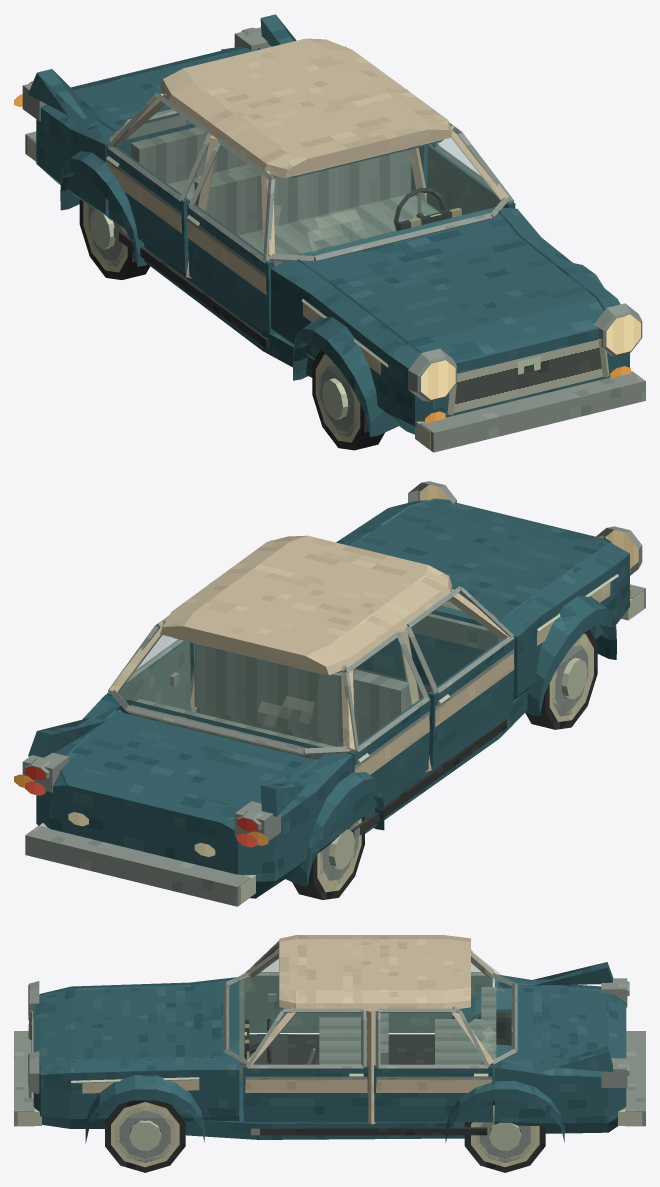
File: northcairn-1956.glb
The picture shows the model from 3 angles, top to bottom: view 1: azimuth 30°, elevation 25°; view 2: azimuth 150°, elevation 25°; view 3: azimuth 270°, elevation 25°; orthographic projection. The views are drawn at different scales.
Parts seen in each view (by area): view 1: body, Hood opening panel, Hinged side glass.003, Hinged side glass.002, Trunk opening panel, Shaped hinged outer door.002, Shaped hinged outer door.003, Padded inside door panel, Chrome-capped two-tone insert.004, Chrome-capped two-tone insert.006, Tyre tread and scalloped shoulders.001, Wheel side annulus.003 (+10 smaller); view 2: body, Trunk opening panel, Hood opening panel, Hinged side glass.003, Hinged side glass.002, Shaped hinged outer door.002, Shaped hinged outer door.003, Padded inside door panel.001, Chrome-capped two-tone insert.004, Chrome-capped two-tone insert.006, Tyre tread and scalloped shoulders.001, Wheel side annulus.002 (+6 smaller); view 3: body, Hood opening panel, Trunk opening panel, Shaped hinged outer door, Hinged side glass.001, Hinged side glass, Shaped hinged outer door.001, Padded inside door panel.002, Chrome-capped two-tone insert, Wheel side annulus.001, Wheel side annulus, Chrome-capped two-tone insert.002 (+15 smaller).
Part boxes in pixels (x1,y1,x2,y2): body: (22, 14, 645, 452); Hood opening panel: (299, 207, 603, 363); Hinged side glass.003: (114, 102, 206, 194); Hinged side glass.002: (194, 145, 262, 254); Trunk opening panel: (71, 48, 257, 130); Shaped hinged outer door.002: (187, 204, 269, 334); Shaped hinged outer door.003: (106, 146, 185, 272); Padded inside door panel: (426, 146, 508, 215); Chrome-capped two-tone insert.004: (187, 221, 266, 295); Chrome-capped two-tone insert.006: (107, 162, 181, 233); Tyre tread and scalloped shoulders.001: (312, 350, 384, 450); Wheel side annulus.003: (318, 361, 357, 436); body: (22, 500, 645, 906); Trunk opening panel: (61, 711, 315, 822); Hood opening panel: (352, 500, 608, 620); Hinged side glass.003: (353, 638, 423, 745); Hinged side glass.002: (412, 592, 506, 687); Shaped hinged outer door.002: (432, 636, 515, 765); Shaped hinged outer door.003: (353, 698, 430, 824); Padded inside door panel.001: (118, 641, 191, 711); Chrome-capped two-tone insert.004: (435, 653, 514, 726); Chrome-capped two-tone insert.006: (354, 715, 429, 774); Tyre tread and scalloped shoulders.001: (525, 629, 597, 729); Wheel side annulus.002: (549, 633, 593, 721); body: (14, 935, 645, 1143); Hood opening panel: (33, 980, 239, 1061); Trunk opening panel: (514, 984, 626, 1059); Shaped hinged outer door: (243, 1067, 368, 1122); Hinged side glass.001: (381, 1013, 483, 1063); Hinged side glass: (254, 1013, 360, 1063); Shaped hinged outer door.001: (374, 1067, 493, 1122); Padded inside door panel.002: (243, 976, 366, 1032); Chrome-capped two-tone insert: (245, 1079, 367, 1092); Wheel side annulus.001: (115, 1106, 174, 1162); Wheel side annulus: (111, 1102, 179, 1167); Chrome-capped two-tone insert.002: (376, 1079, 492, 1092).
Size of the model in its own units: 2.05 by 1.54 by 5.37.
6 materials, 6 textured.
